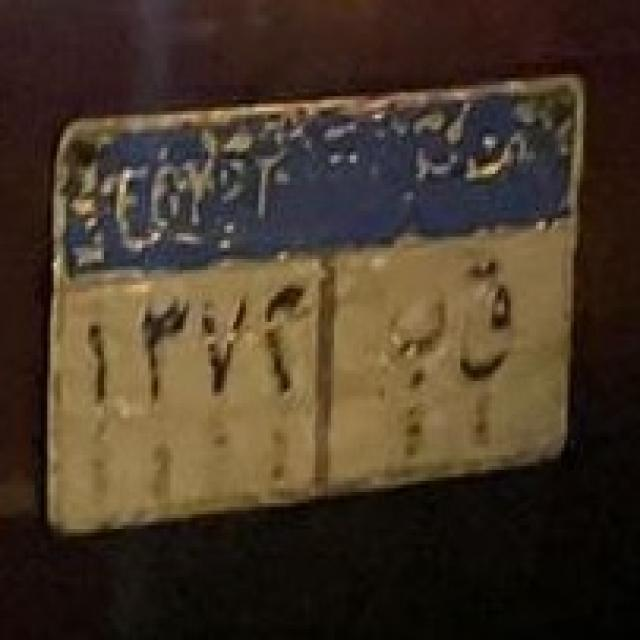1: (80, 306, 120, 414)
2: (256, 270, 316, 406)
3: (132, 292, 189, 412)
7: (198, 289, 255, 404)
Taa: (452, 258, 530, 395)
baa: (377, 287, 452, 393)
